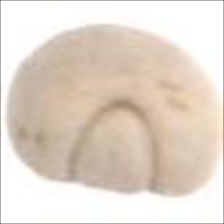L5: (63, 96, 161, 196)
L6: (4, 21, 220, 201)
